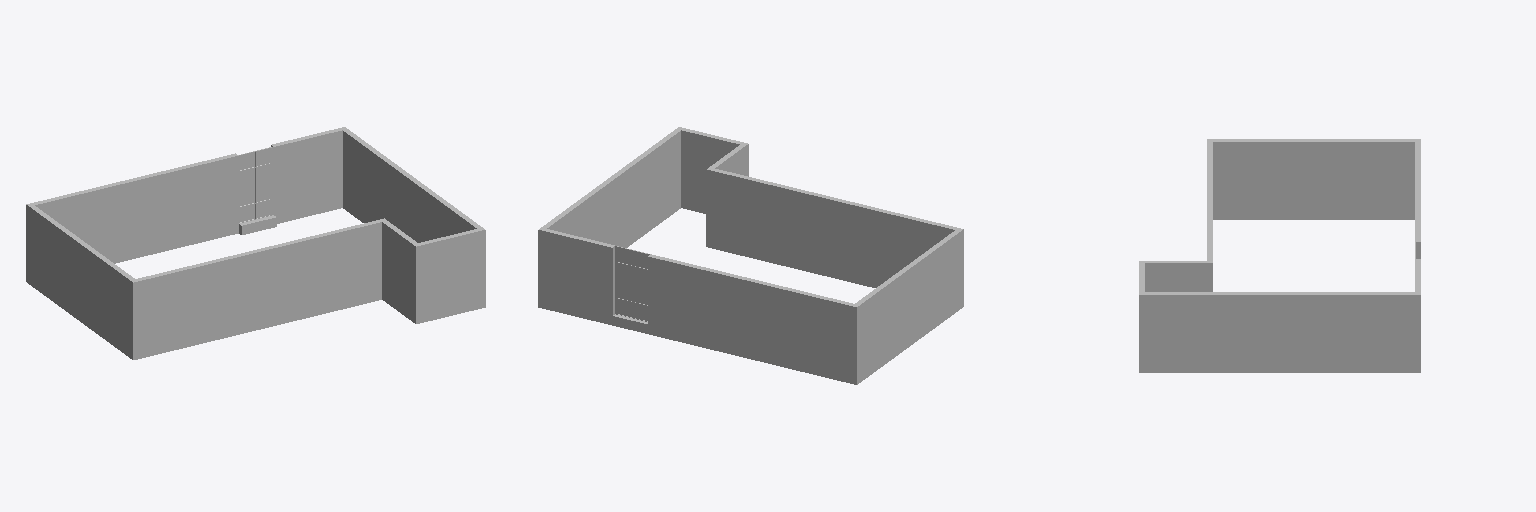
File: stena.obj
3 views of the same model, side by side, from view 1: azimuth 30°, elevation 25°; view 2: azimuth 150°, elevation 25°; view 3: azimuth 270°, elevation 25° (orthographic).
Visible parts, largest first — view 1: group120 stena stena pCube397, group120 stena stena pCube396, group120 stena stena pCube400, pCube394 group120 stena stena, group120 stena stena pCube399, group120 stena stena pCube395, group120 stena stena pCube398, stena stena pCube268; view 2: group120 stena stena pCube397, group120 stena stena pCube396, group120 stena stena pCube400, pCube394 group120 stena stena, group120 stena stena pCube395, group120 stena stena pCube399, stena stena pCube268, group120 stena stena pCube398; view 3: pCube394 group120 stena stena, group120 stena stena pCube400, group120 stena stena pCube398, group120 stena stena pCube397, group120 stena stena pCube396, group120 stena stena pCube395.
Boxes of the visible parts, x1=… form: group120 stena stena pCube397: x1=133, y1=220, x2=381, y2=359; group120 stena stena pCube396: x1=29, y1=153, x2=238, y2=263; group120 stena stena pCube400: x1=26, y1=204, x2=137, y2=359; pCube394 group120 stena stena: x1=343, y1=129, x2=481, y2=242; group120 stena stena pCube399: x1=413, y1=227, x2=485, y2=323; group120 stena stena pCube395: x1=271, y1=127, x2=346, y2=223; group120 stena stena pCube398: x1=380, y1=218, x2=418, y2=321; stena stena pCube268: x1=239, y1=147, x2=273, y2=222; group120 stena stena pCube397: x1=712, y1=169, x2=960, y2=287; group120 stena stena pCube396: x1=648, y1=254, x2=856, y2=383; group120 stena stena pCube400: x1=852, y1=229, x2=963, y2=384; pCube394 group120 stena stena: x1=542, y1=128, x2=681, y2=247; group120 stena stena pCube395: x1=538, y1=227, x2=614, y2=325; group120 stena stena pCube399: x1=678, y1=127, x2=748, y2=213; stena stena pCube268: x1=615, y1=246, x2=649, y2=321; group120 stena stena pCube398: x1=706, y1=144, x2=745, y2=247; pCube394 group120 stena stena: x1=1142, y1=292, x2=1414, y2=372; group120 stena stena pCube400: x1=1207, y1=139, x2=1420, y2=219; group120 stena stena pCube398: x1=1144, y1=261, x2=1212, y2=291; group120 stena stena pCube397: x1=1207, y1=140, x2=1212, y2=260; group120 stena stena pCube396: x1=1415, y1=140, x2=1420, y2=258; group120 stena stena pCube395: x1=1415, y1=259, x2=1420, y2=372.
Size of the model in its own units: 2998 by 700 by 2294.